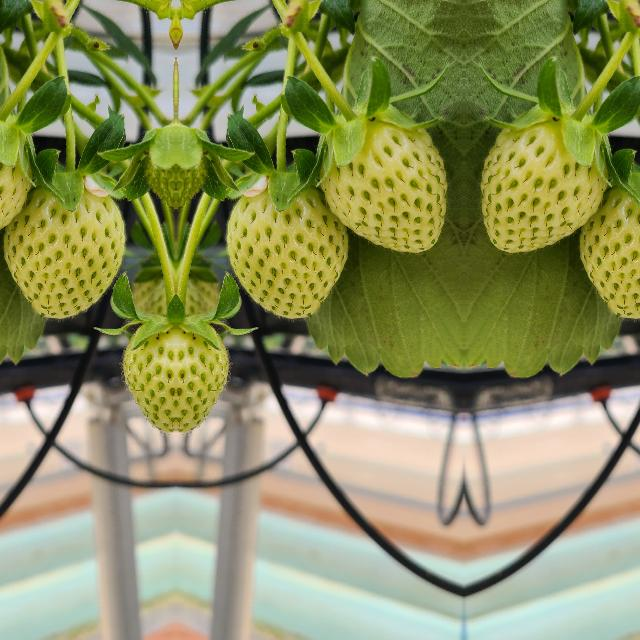Health_25: (320, 110, 446, 254), (480, 110, 606, 254), (225, 186, 347, 318), (3, 186, 125, 318), (579, 186, 640, 318), (175, 308, 229, 438), (121, 308, 175, 438), (0, 110, 30, 254)
